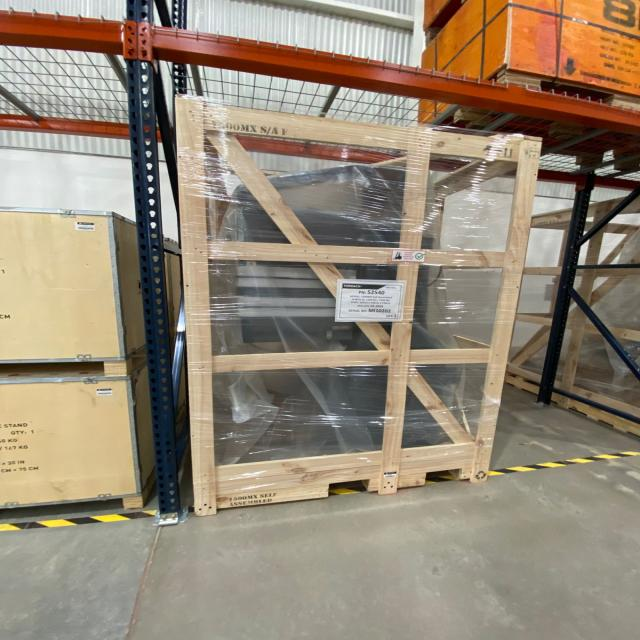1500b: (177, 96, 540, 515)
